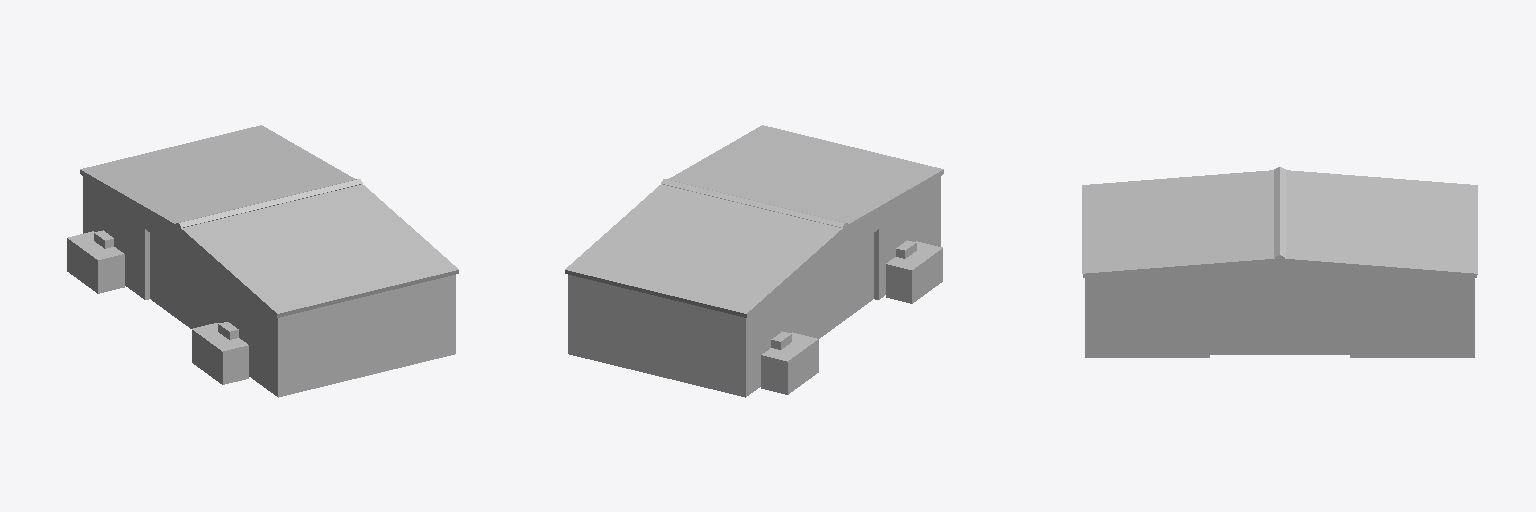
Rendered from house12.obj.
3 views of the same model, side by side, from view 1: azimuth 30°, elevation 25°; view 2: azimuth 150°, elevation 25°; view 3: azimuth 270°, elevation 25° (orthographic).
Visible parts, largest first — view 1: City_building_011.001; view 2: City_building_011.001; view 3: City_building_011.001.
Boxes of the visible parts, box(x1,y1,x2,y2) form: City_building_011.001: box(67, 125, 458, 397); City_building_011.001: box(565, 125, 943, 397); City_building_011.001: box(1082, 167, 1477, 357).
Bounding box in the file's own units: 2.02 × 0.9581 × 3.32.